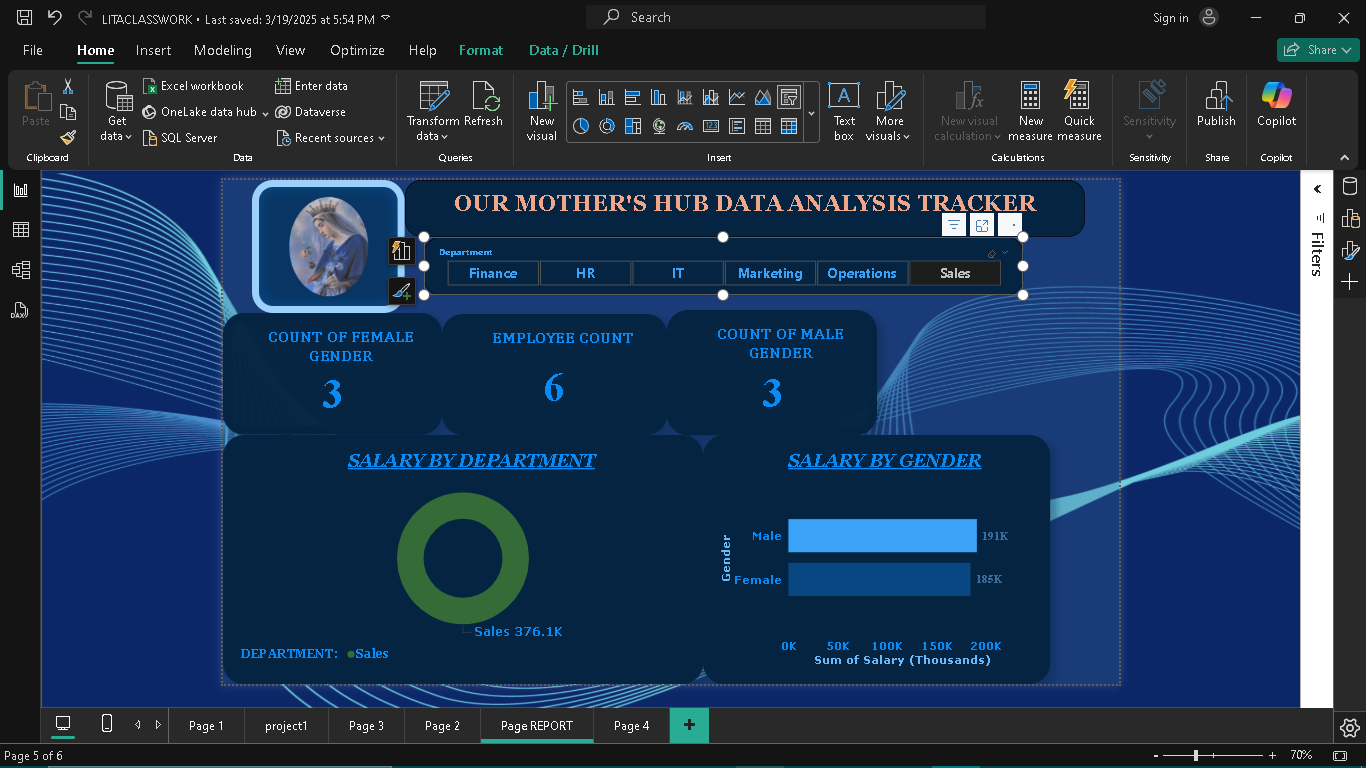

Layout of this report page (visuals, bound fields, positions):
{"tool":"powerbi","page":{"name":"Page REPORT","canvas":[1280,720],"ordinal":0},"visuals":[{"type":"card","title":"EMPLOYEE COUNT","fields":{"Values":["HR_Employee_Data.Measure 2"]},"box":[312.9,190,321.4,174.3],"z":0},{"type":"card","title":" COUNT OF MALE GENDER","fields":{"Values":["Count(HR_Employee_Data)"]},"box":[634.3,185.7,300,178.6],"z":1000},{"type":"card","title":" COUNT OF FEMALE GENDER","fields":{"Values":["Count(HR_Employee_Data)"]},"box":[0,190,312.9,174.3],"z":2000},{"type":"textbox","box":[260,0,971.4,81.4],"z":3000},{"type":"image","box":[41.7,0,218.3,190],"z":4000},{"type":"donutChart","title":"SALARY BY DEPARTMENT","fields":{"Y":["Sum(HR_Employee_Data.Salary)"],"Category":["HR_Employee_Data.Department"]},"box":[0,364.3,685.7,355.7],"z":5000},{"type":"clusteredBarChart","title":"SALARY BY GENDER","fields":{"Y":["Sum(HR_Employee_Data.Salary)"],"Category":["HR_Employee_Data.Gender"]},"box":[685.7,364.3,495.7,355.7],"z":6000},{"type":"slicer","fields":{"Values":["HR_Employee_Data.Department"]},"box":[287.1,81.4,855.7,82.9],"z":7000}]}

Visuals, with their boxes on the page's 1280x720 design canvas (x1, y1, x2, y2). These are canvas units, not pixel positions in the 1366x768 screenshot, which may show the page scaled, cropped or inside an application window:
"EMPLOYEE COUNT" card: bbox=(313, 190, 634, 364)
" COUNT OF MALE GENDER" card: bbox=(634, 186, 934, 364)
" COUNT OF FEMALE GENDER" card: bbox=(0, 190, 313, 364)
textbox: bbox=(260, 0, 1231, 81)
image: bbox=(42, 0, 260, 190)
"SALARY BY DEPARTMENT" donutChart: bbox=(0, 364, 686, 720)
"SALARY BY GENDER" clusteredBarChart: bbox=(686, 364, 1181, 720)
slicer - HR_Employee_Data.Department: bbox=(287, 81, 1143, 164)
